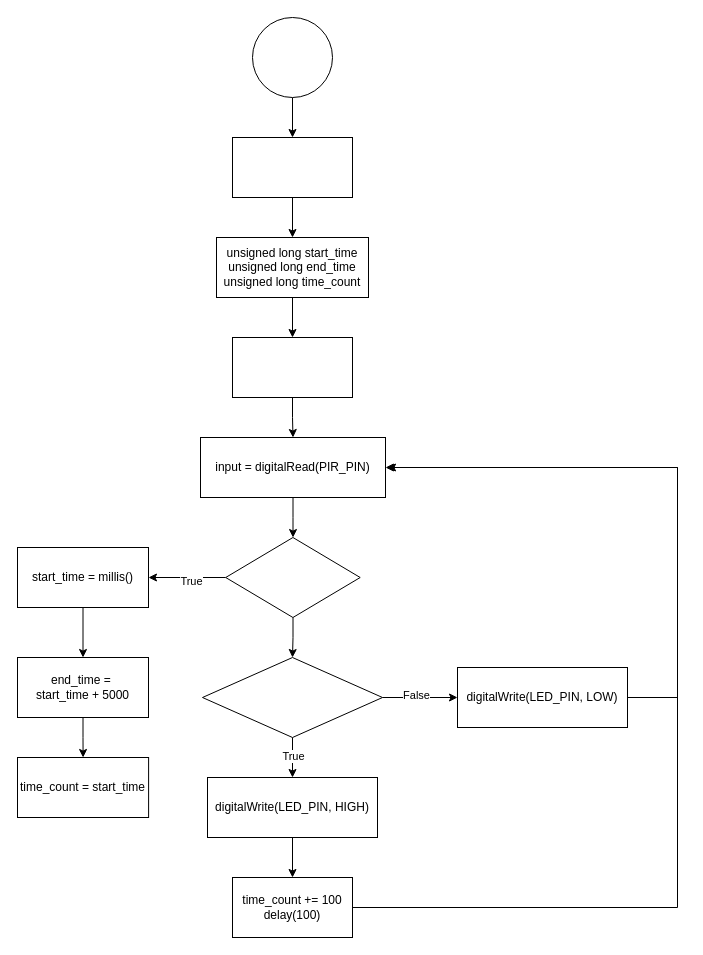
The diagram is 703 pixels wide and 955 high, and some of its shapes have lost their labels. The centre of each missing label's shape, as x and y in pixels:
"input == HIGH" goes at (292,577).
"PIR_PIN : INPUT LED_PIN : OUTPUT" goes at (292,367).
"PIR_PIN = 2 LED_PIN = 4" goes at (292,167).
"time_count <= end_time" goes at (292,697).
